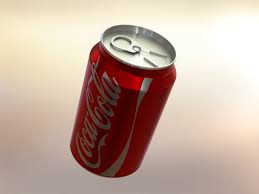coke: (73, 69, 119, 171)
